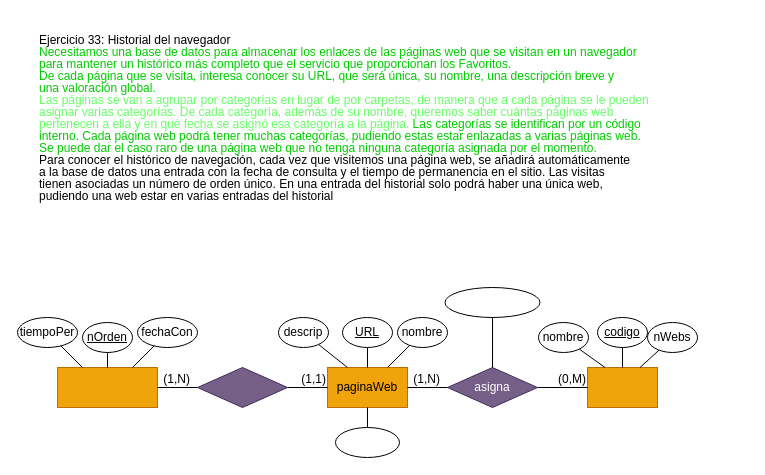
The diagram is 765 pixels wide and 475 high, and some of its shapes have lost their labels. The centre of each missing label's shape, as x and y in pixels:
"categoria" belongs at point (622, 387).
"contiene" belongs at point (242, 387).
"entradaHistorial" belongs at point (107, 387).
"fechaAsignacion" belongs at point (492, 302).
"valoracion" belongs at point (367, 442).
